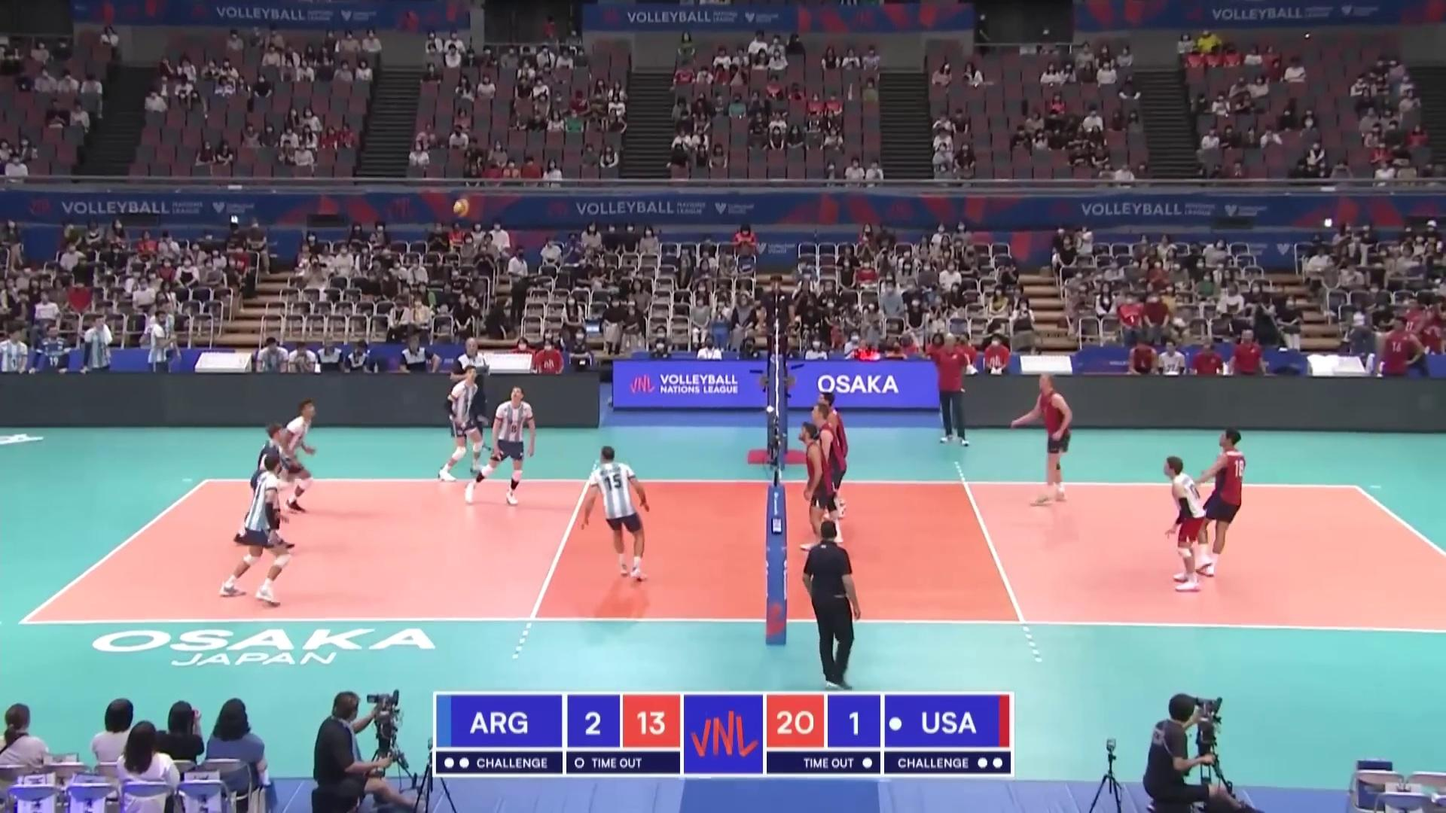player: (216, 453, 290, 608), (579, 446, 649, 582), (465, 386, 535, 508), (1009, 374, 1073, 507), (234, 423, 295, 551), (1196, 427, 1247, 577), (1162, 456, 1209, 593), (440, 367, 490, 483), (269, 397, 319, 512), (808, 403, 846, 541), (797, 423, 835, 558), (811, 389, 849, 521)
refree: (802, 524, 861, 688), (761, 273, 797, 368)
